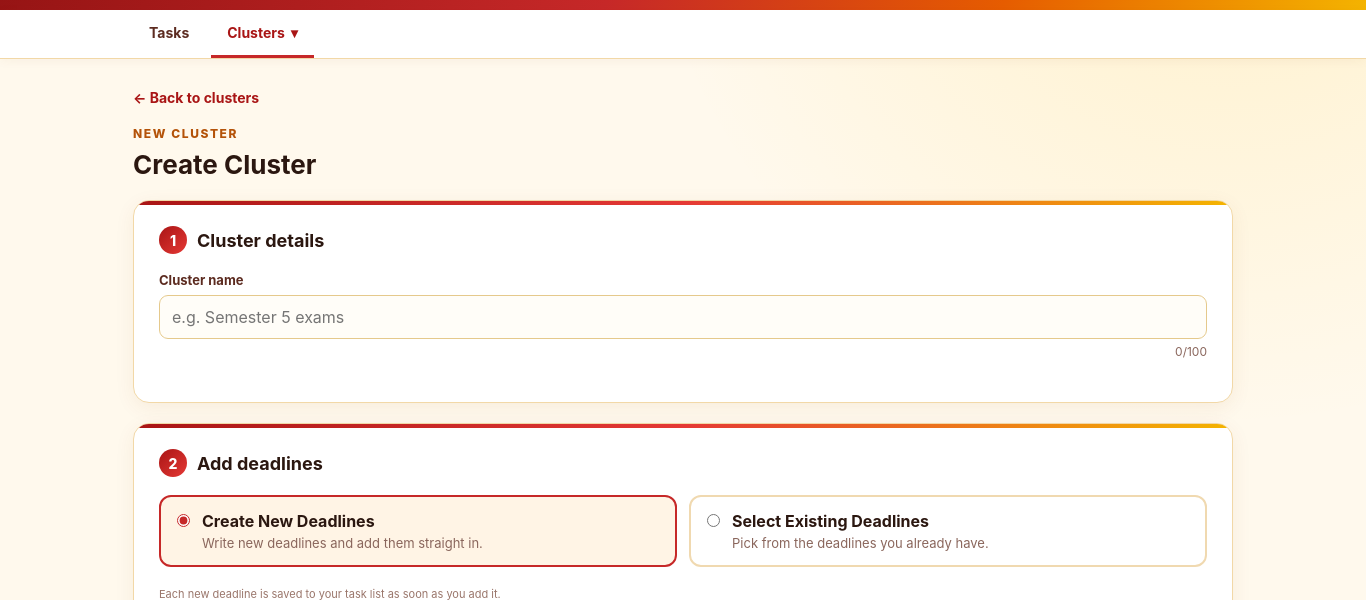
Test case: App (V1 behaviour and cluster navigation) › creating a cluster shows a success banner on the new cluster's page
Type "Banner Test" into the field labelled "Cluster name" at (683, 317), box top-left (159, 295), bottom-right (1207, 339)
(page scrolled)
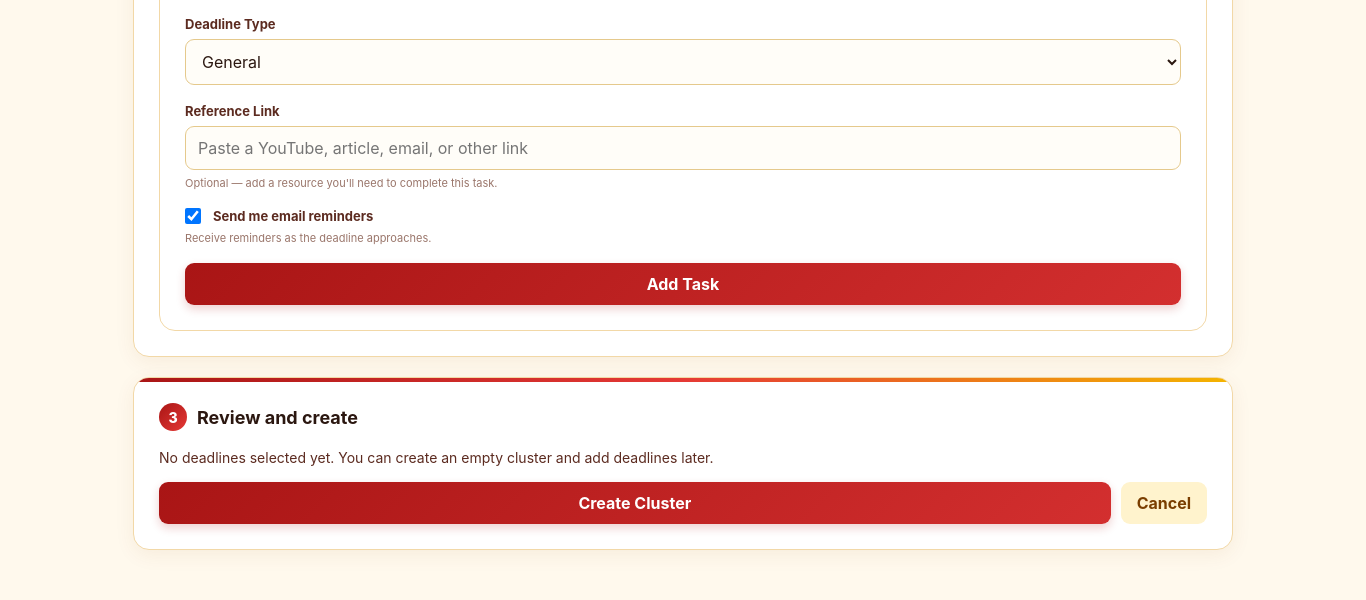
Click the button "Create Cluster" at (635, 503), box top-left (159, 482), bottom-right (1111, 524)
(page scrolled)
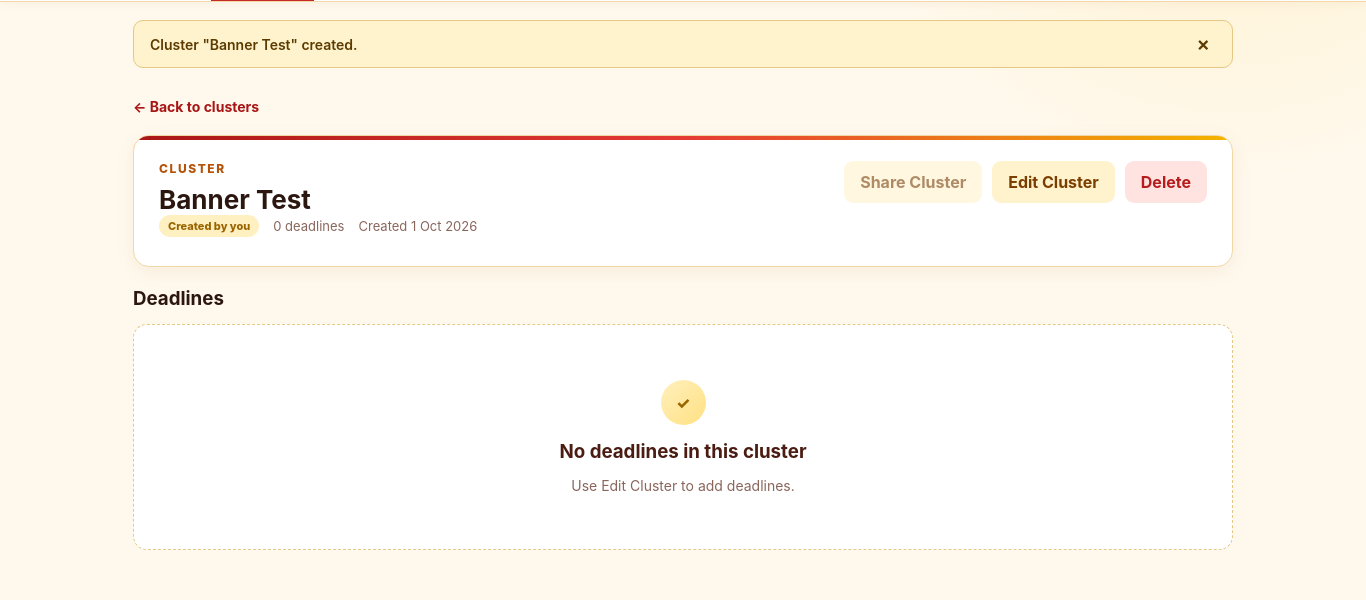
Expected: the heading "Banner Test" is shown, top-left (159, 184), bottom-right (311, 215)
Expected: the text "Cluster \"Banner Test\" created." is shown, top-left (150, 36), bottom-right (358, 52)
Click the button named "Dismiss message" at (1203, 44), box top-left (1190, 33), bottom-right (1216, 55)
(page scrolled)
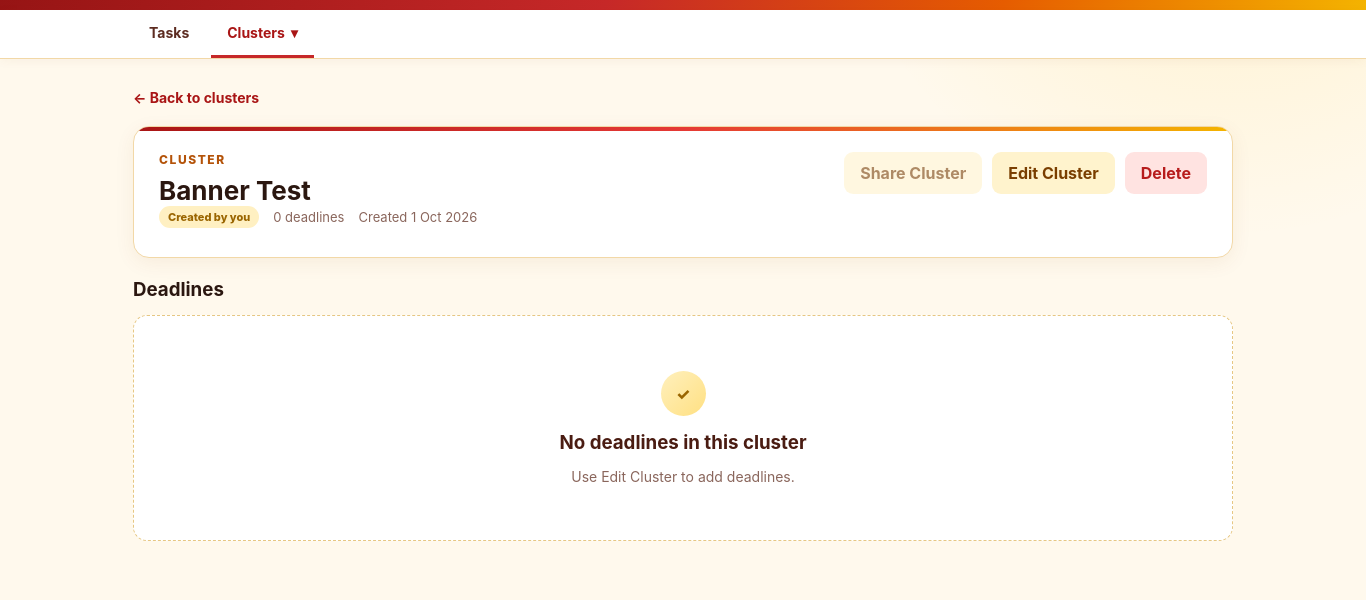
Expected: the text "Cluster \"Banner Test\" created." is gone
